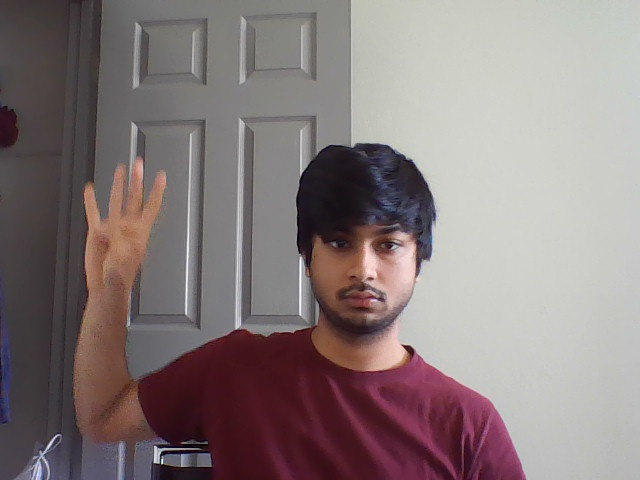four: (73, 149, 177, 231)
